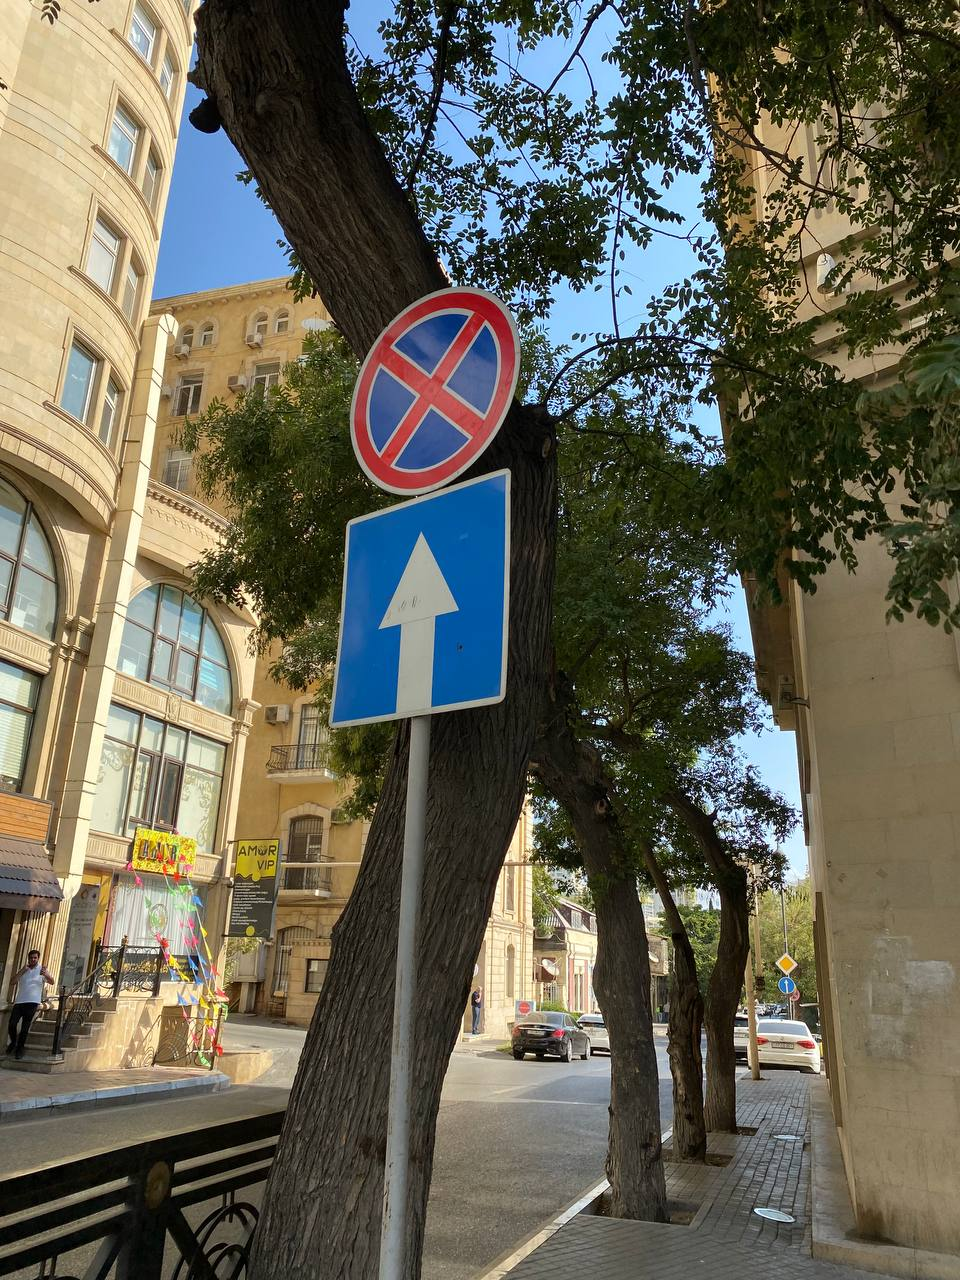No Parking: (349, 287, 521, 495)
